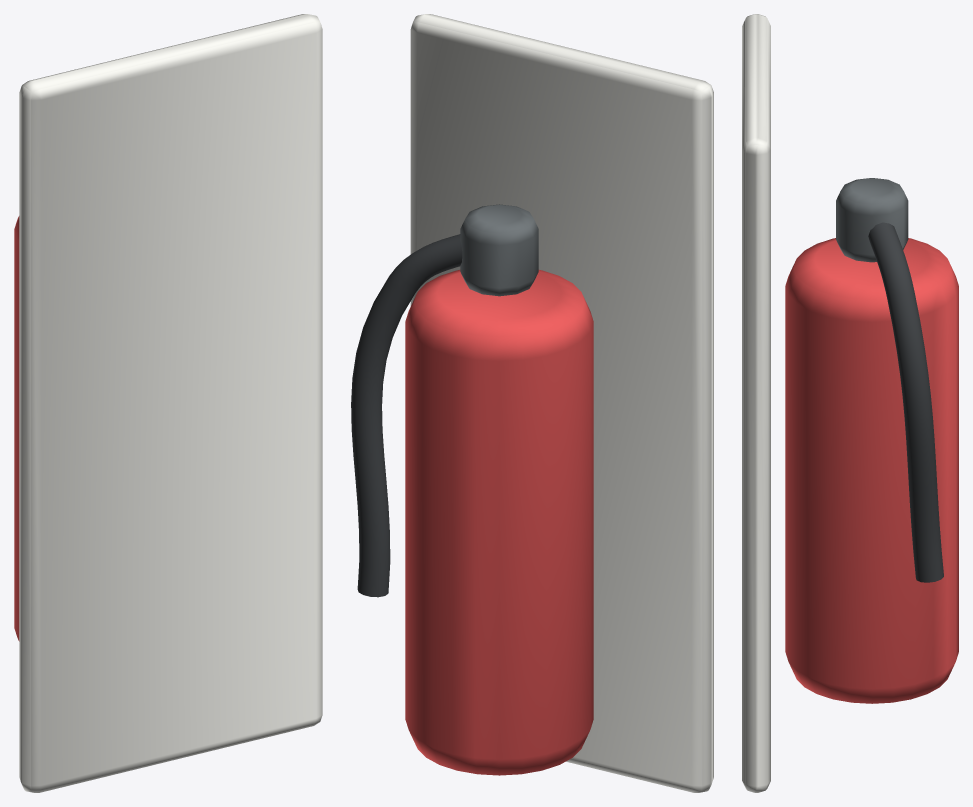
The model's file is extintor.glb.
3 renders of one model, left to right at view 1: azimuth 30°, elevation 25°; view 2: azimuth 150°, elevation 25°; view 3: azimuth 270°, elevation 25°, orthographic. The views are drawn at different scales.
Parts seen in each view (by area): view 1: placa, botella; view 2: placa, botella, manguera, valvula; view 3: botella, placa, manguera, valvula.
Boxes of the visible parts, x1,y1,x2,y2 form: placa: [19, 14, 322, 792]; botella: [14, 216, 19, 641]; placa: [410, 14, 713, 792]; botella: [405, 270, 593, 775]; manguera: [351, 234, 462, 597]; valvula: [460, 204, 538, 296]; botella: [785, 238, 958, 703]; placa: [742, 14, 770, 792]; manguera: [868, 222, 943, 582]; valvula: [836, 178, 908, 262].
Size of the model in its own units: 0.22 by 0.5 by 0.15.
